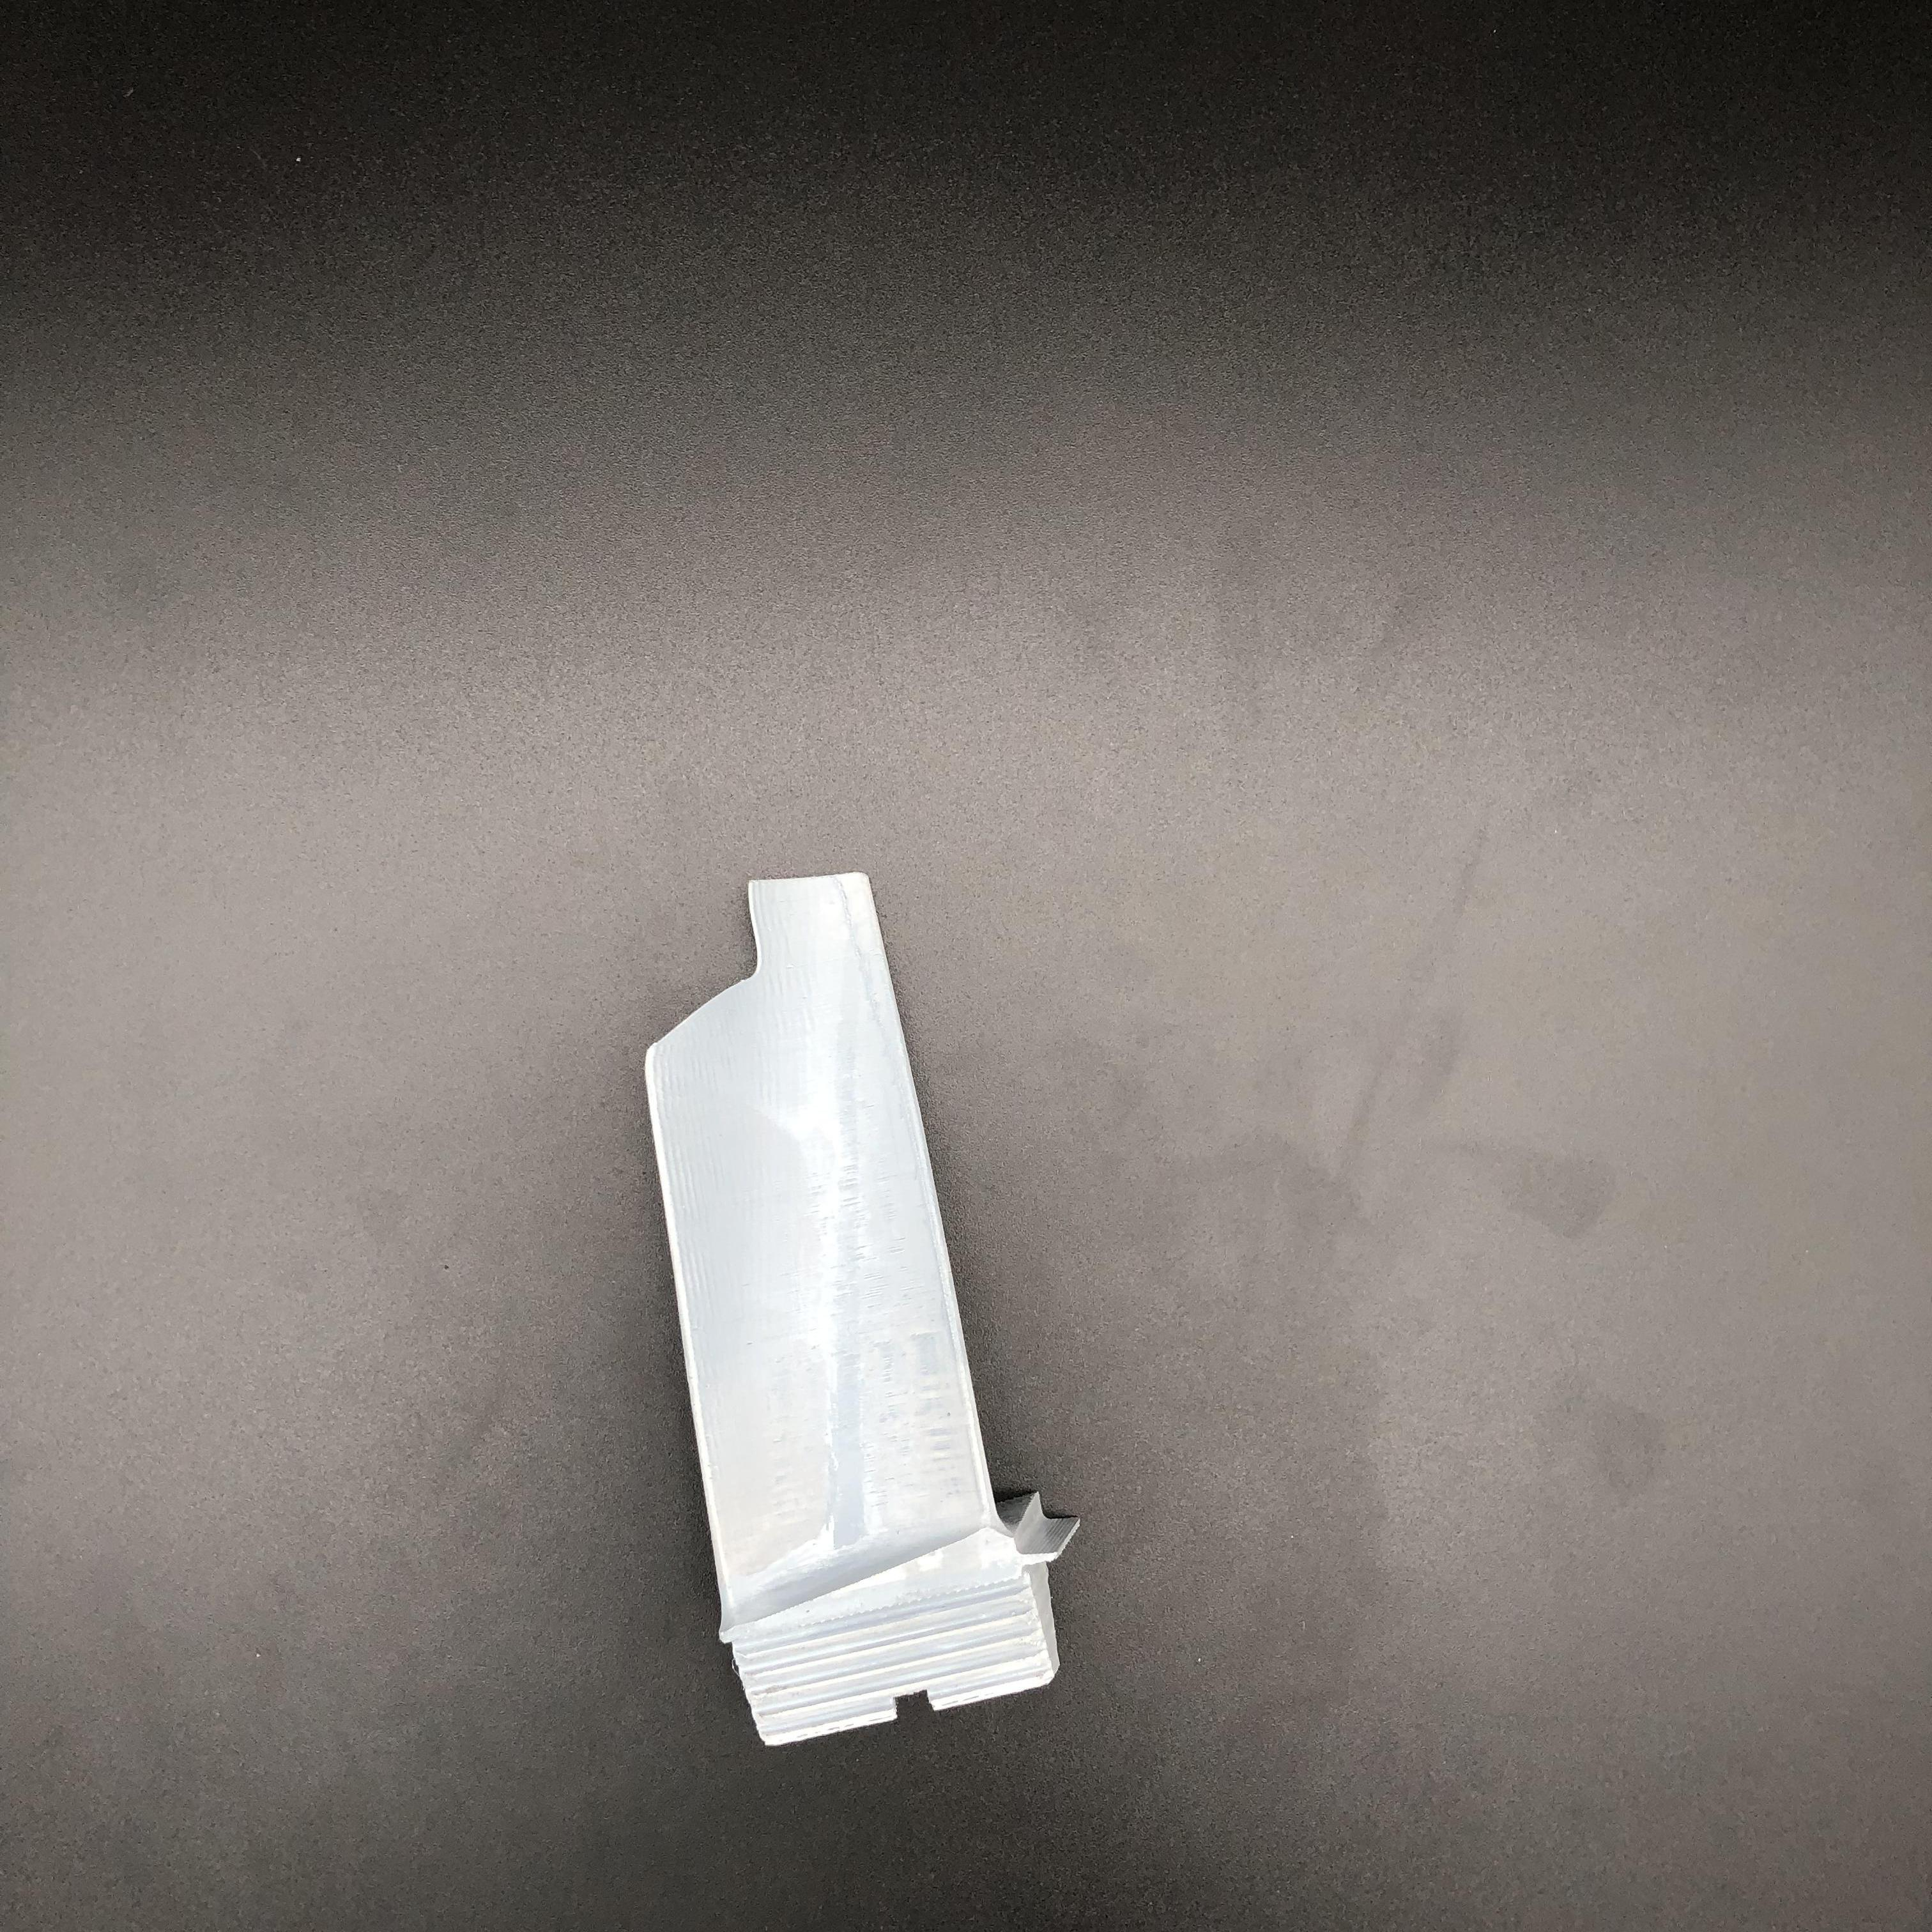fracture: (637, 881, 812, 1076)
